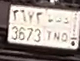3: (34, 11, 44, 43), (11, 9, 19, 41)
6: (19, 9, 27, 41)
7: (26, 10, 35, 41)
D: (61, 17, 70, 42)
N: (53, 16, 63, 42)
T: (45, 14, 54, 41)
